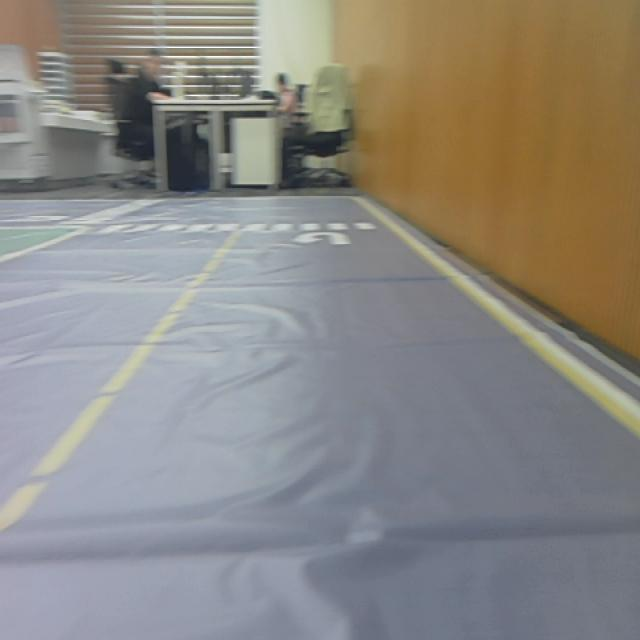left_lane: (0, 231, 239, 533)
right_lane: (370, 211, 640, 437)
